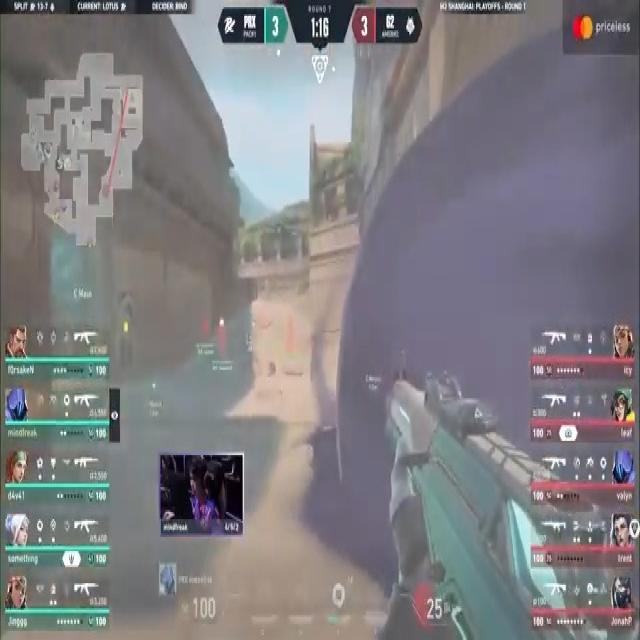smoke: (341, 17, 634, 583)
